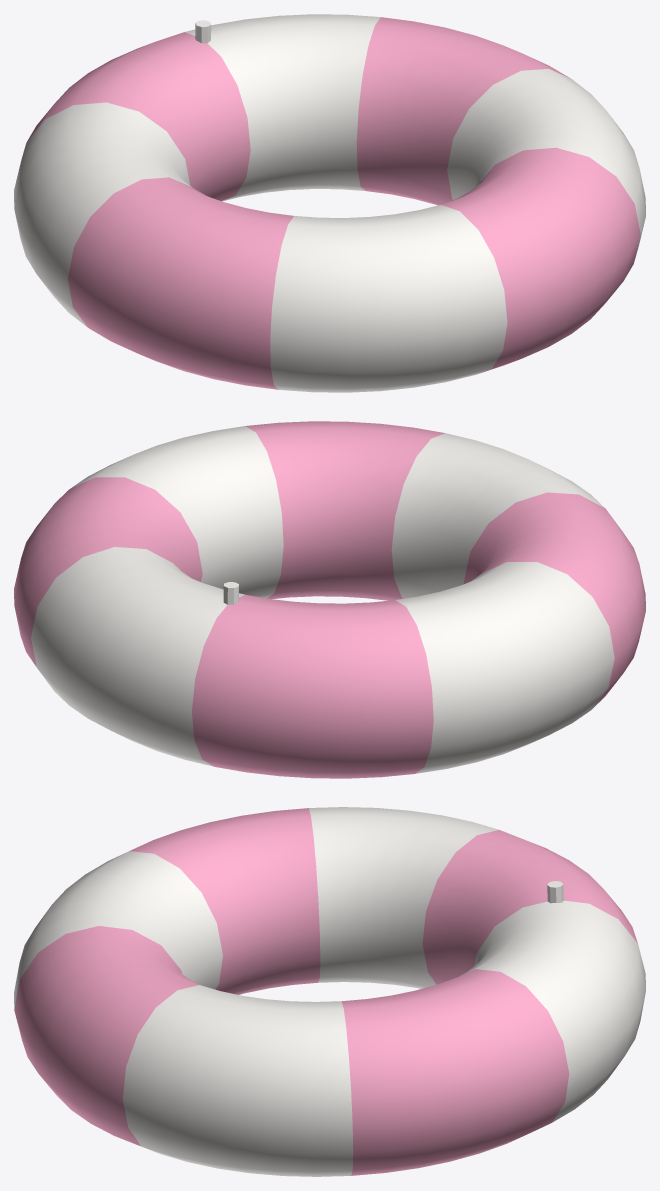
Rendered from Float_Tube.glb.
3 renders of one model, top to bottom at view 1: azimuth 30°, elevation 25°; view 2: azimuth 150°, elevation 25°; view 3: azimuth 270°, elevation 25°, orthographic.
Parts seen in each view (by area): view 1: Tube_Ring; view 2: Tube_Ring; view 3: Tube_Ring.
Boxes of the visible parts, x1=… form: Tube_Ring: x1=14, y1=14, x2=645, y2=392; Tube_Ring: x1=14, y1=421, x2=645, y2=778; Tube_Ring: x1=14, y1=807, x2=645, y2=1176.
Size of the model in its own units: 0.9384 by 0.3055 by 0.9379.
